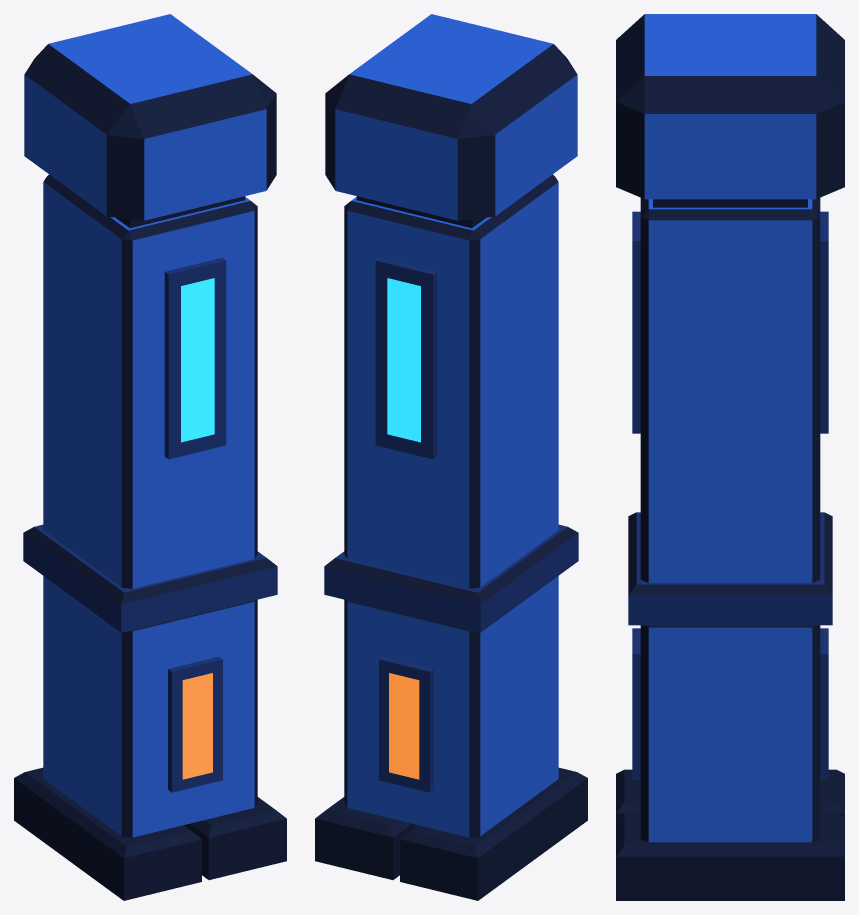
Rendered from core_lock_pillar.glb.
3 views of the same model, side by side, from view 1: azimuth 30°, elevation 25°; view 2: azimuth 150°, elevation 25°; view 3: azimuth 270°, elevation 25° (orthographic). The views are drawn at different scales.
Visible parts, largest first — view 1: Pillar_Body, Pillar_Windows; view 2: Pillar_Body, Pillar_Windows; view 3: Pillar_Body.
Boxes of the visible parts, x1=… form: Pillar_Body: x1=14, y1=14, x2=286, y2=900; Pillar_Windows: x1=181, y1=278, x2=214, y2=779; Pillar_Body: x1=315, y1=14, x2=587, y2=900; Pillar_Windows: x1=387, y1=278, x2=420, y2=779; Pillar_Body: x1=616, y1=14, x2=844, y2=900.
Bounding box in the file's own units: 0.5 × 2.2 × 0.56.
